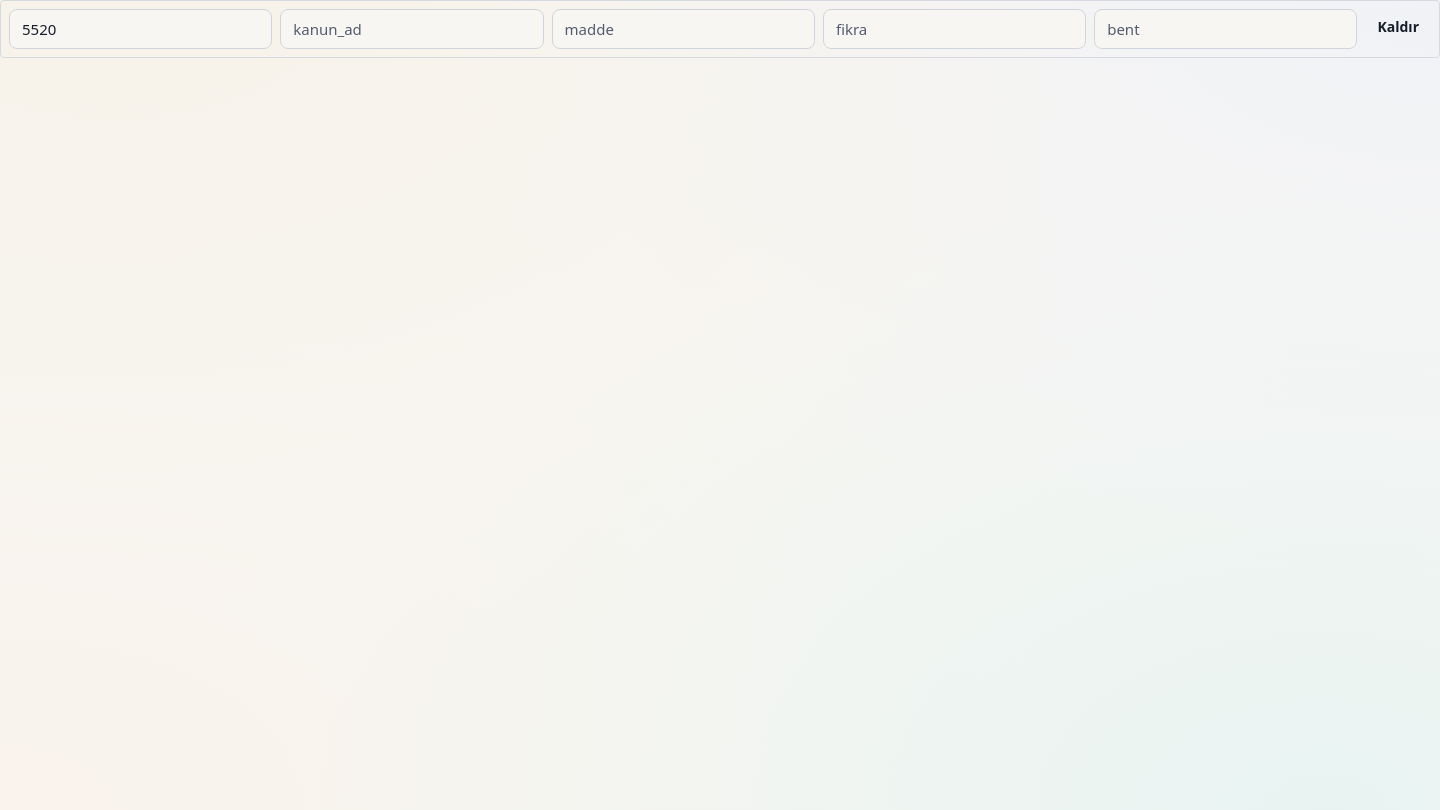
it: ConceptRowEditor › shows a live madde split warning and splits parseable madde on blur
The width and height of the screenshot is (1440, 810).
Step 1. Type "17/5-a" into the field labelled "madde" → (683, 29), box [552,9,815,49]
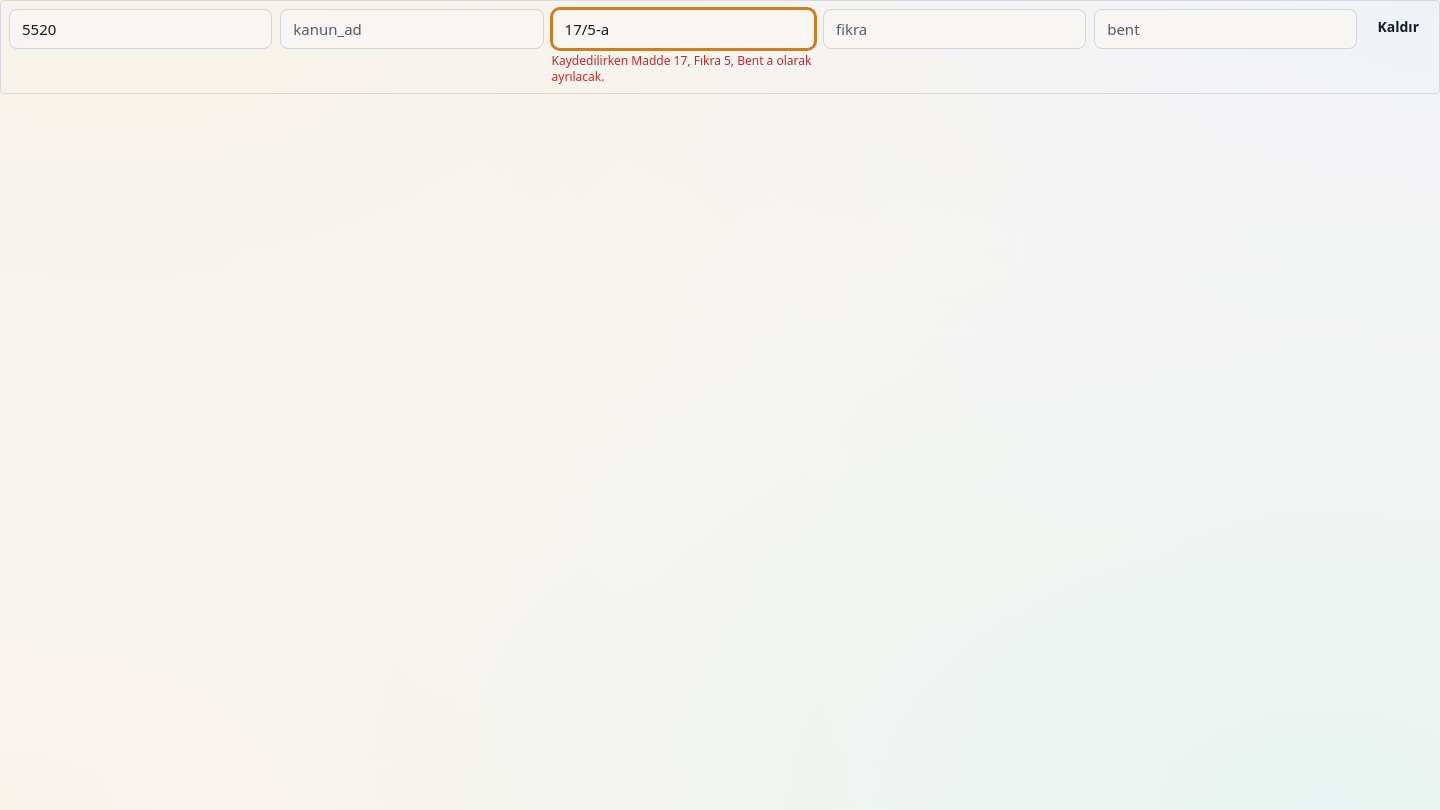
Result: the text "Kaydedilirken Madde 17, Fıkra 5, Bent a olarak ayrılacak." is shown at [552,53,815,85]
Step 2. Leave the field named "madde", box [552,9,815,49]
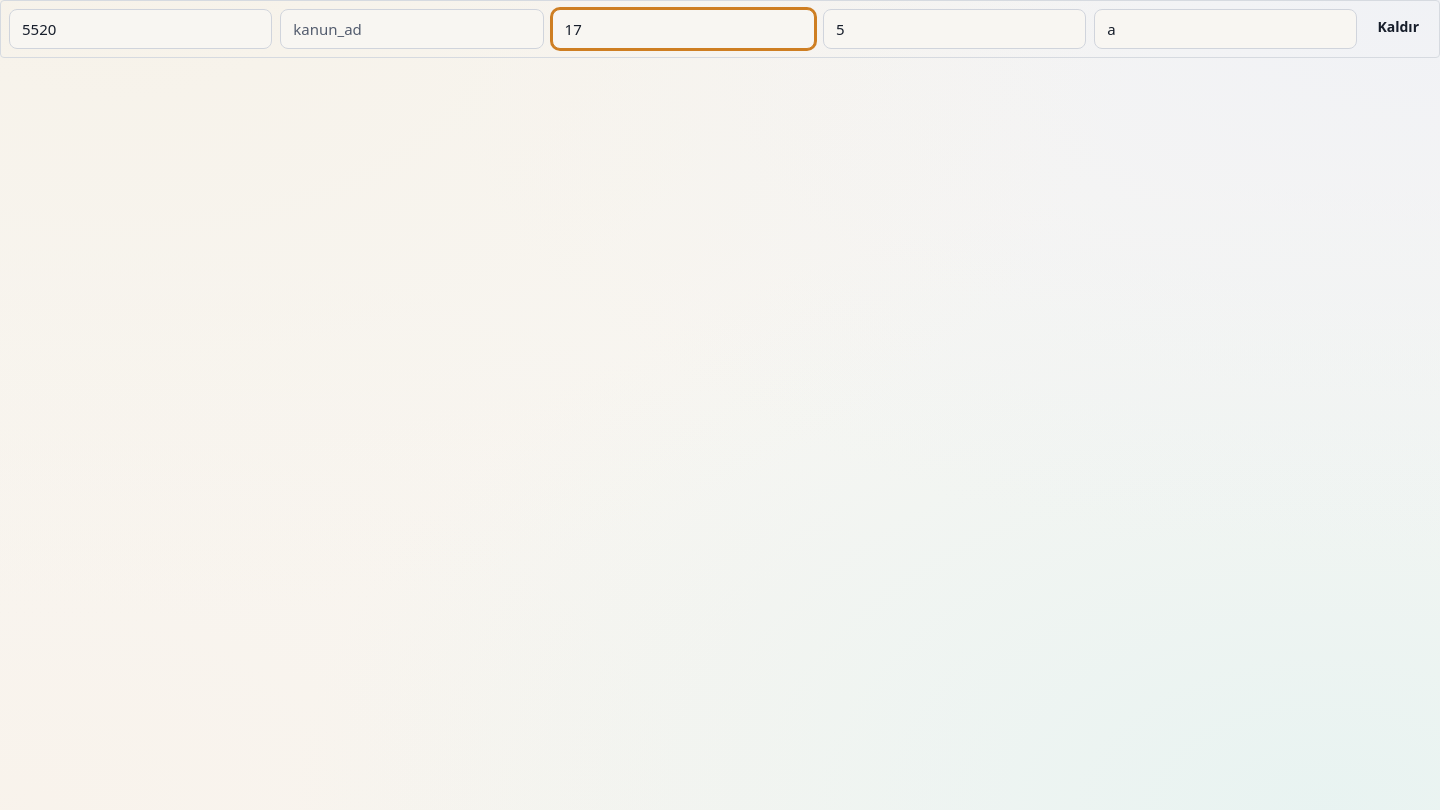
Result: the field named "madde" holds "17" at [552,9,815,49]
Result: the field named "fikra" holds "5" at [823,9,1086,49]
Result: the field named "bent" holds "a" at [1094,9,1358,49]
